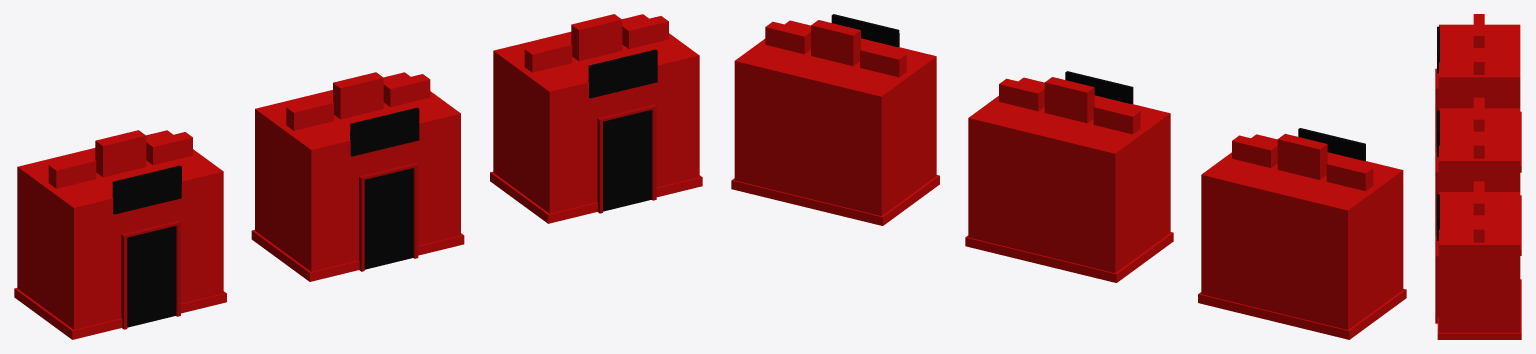
The model's file is Level_2_On_Savunma_Kaleleri.fbx.
The picture shows the model from 3 angles, left to right: view 1: azimuth 30°, elevation 25°; view 2: azimuth 150°, elevation 25°; view 3: azimuth 270°, elevation 25°; orthographic projection. The views are drawn at different scales.
Parts seen in each view (by area): view 1: Cube.017, Cube.016, Cube.015; view 2: Cube.016, Cube.015, Cube.017; view 3: Cube.016, Cube.017, Cube.015.
Part boxes in pixels (x1,y1,x2,y2): Cube.017: (14, 130, 226, 339); Cube.016: (490, 14, 702, 223); Cube.015: (251, 72, 464, 281); Cube.016: (731, 14, 939, 225); Cube.015: (965, 71, 1173, 282); Cube.017: (1198, 128, 1406, 339); Cube.016: (1435, 181, 1521, 339); Cube.017: (1435, 14, 1521, 172); Cube.015: (1435, 97, 1521, 255).
Size of the model in its own units: 483 by 119 by 79.55.
